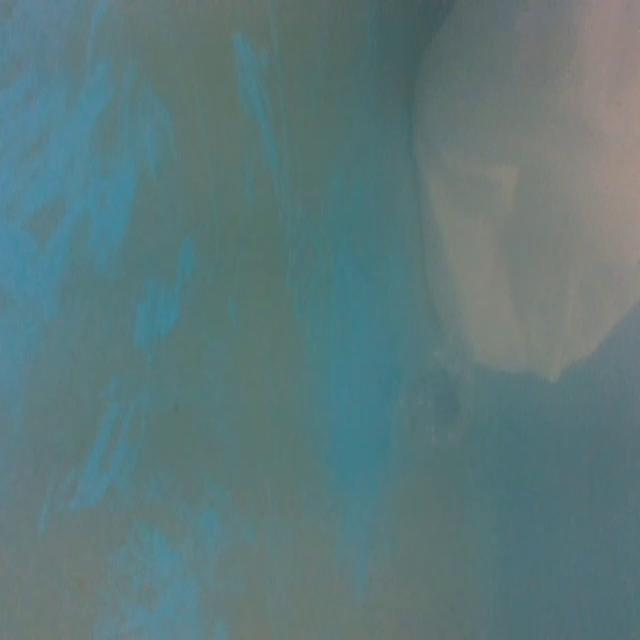plastic bags: (406, 1, 640, 393)
